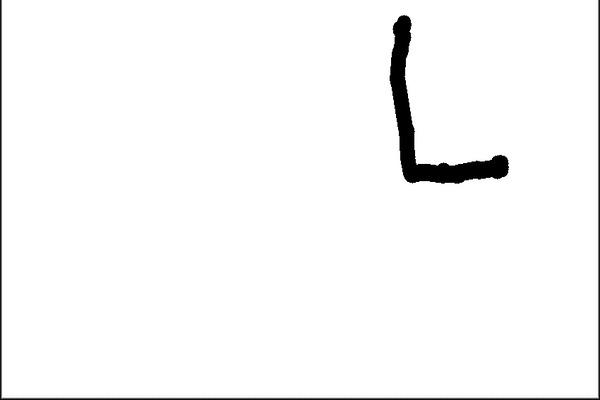L: (381, 9, 516, 191)
